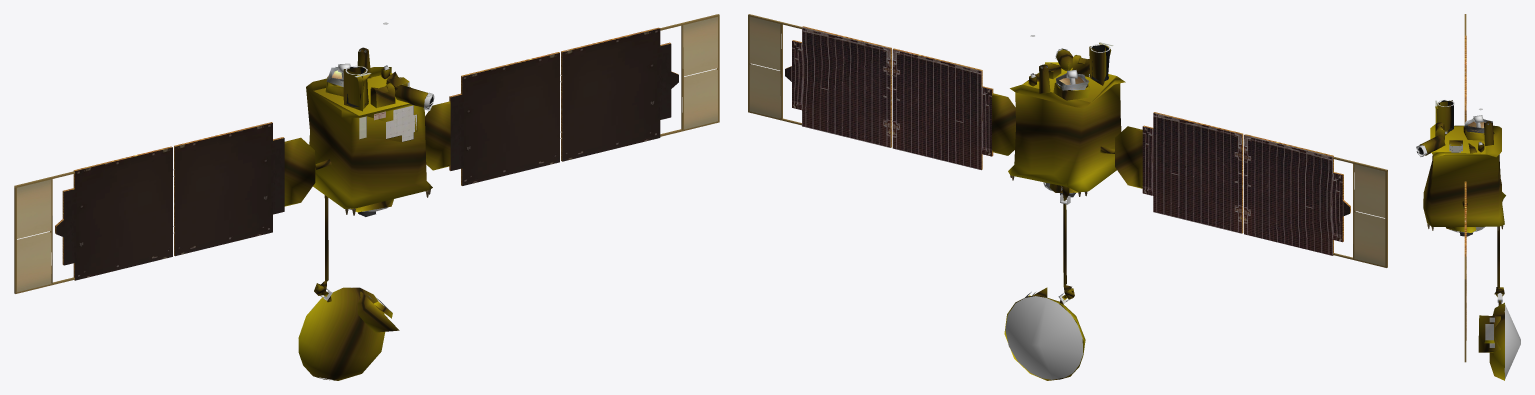
Rendered from mgs_lod2.glb.
3 renders of one model, left to right at view 1: azimuth 30°, elevation 25°; view 2: azimuth 150°, elevation 25°; view 3: azimuth 270°, elevation 25°, orthographic. The views are drawn at different scales.
Parts seen in each view (by area): view 1: mgs_lod2; view 2: mgs_lod2; view 3: mgs_lod2.
Boxes of the visible parts, x1,y1,x2,y2 form: mgs_lod2: (14,14,719,380); mgs_lod2: (748,14,1387,380); mgs_lod2: (1416,14,1520,380).
Bounding box in the file's own units: 12.3 × 6.03 × 2.05.
Materials: 8 (5 with a texture image).
